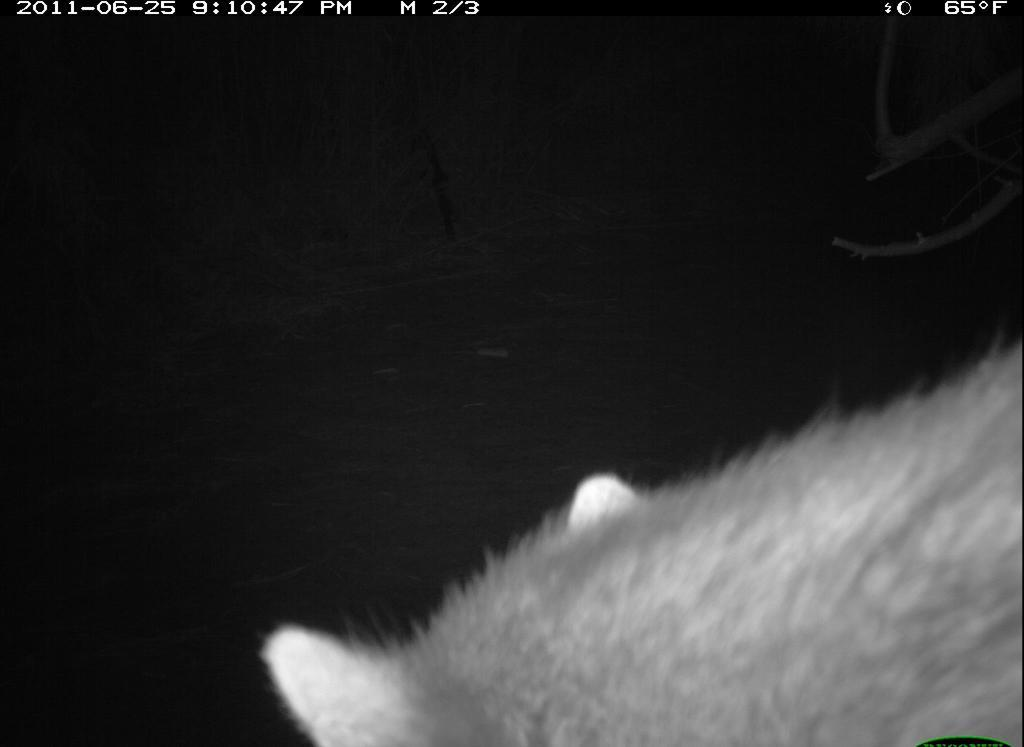raccoon: (257, 328, 1022, 747)
